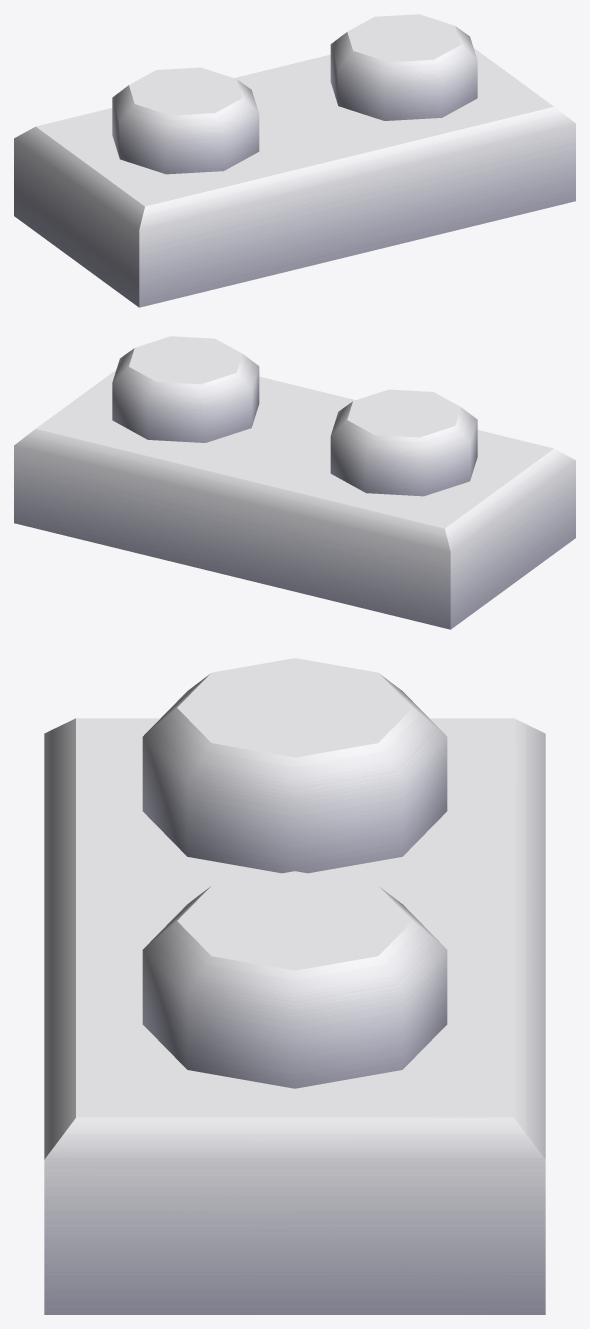
The model's file is round_hq_plate_1x2.glb.
3 renders of one model, top to bottom at view 1: azimuth 30°, elevation 25°; view 2: azimuth 150°, elevation 25°; view 3: azimuth 270°, elevation 25°, orthographic. The views are drawn at different scales.
Parts seen in each view (by area): view 1: round-hq-plate-1x2; view 2: round-hq-plate-1x2; view 3: round-hq-plate-1x2.
Part boxes in pixels (x1,y1,x2,y2): round-hq-plate-1x2: (14,14,575,307); round-hq-plate-1x2: (14,336,575,629); round-hq-plate-1x2: (44,658,545,1314).
Size of the model in its own units: 0.159 by 0.05 by 0.079.
Materials: 1 (1 with a texture image).
